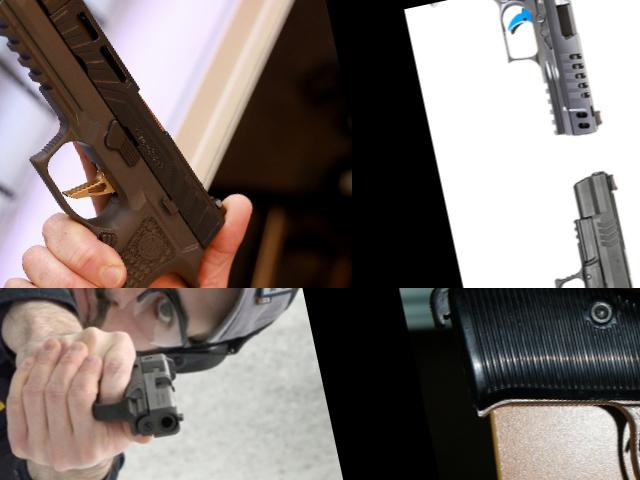handgun: (0, 0, 266, 288), (411, 288, 640, 480), (413, 0, 608, 164), (460, 162, 640, 288), (72, 342, 192, 456), (579, 0, 640, 82)
